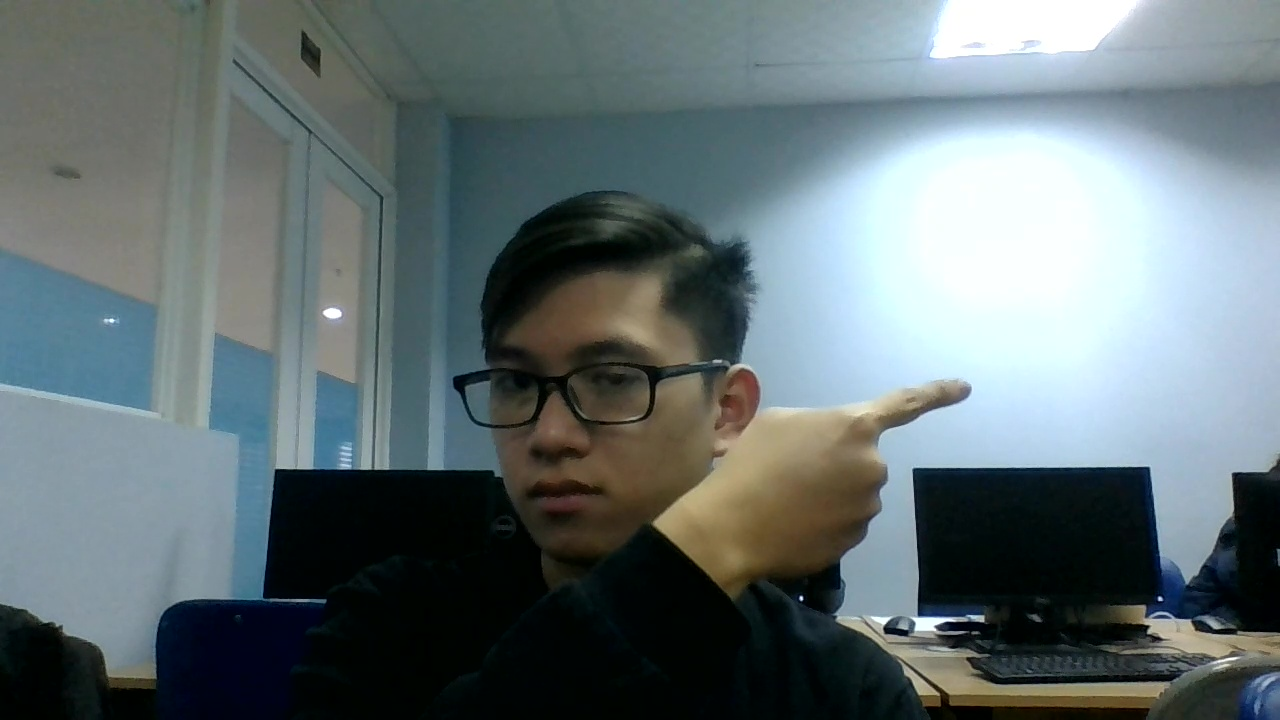left: (730, 363, 971, 571)
